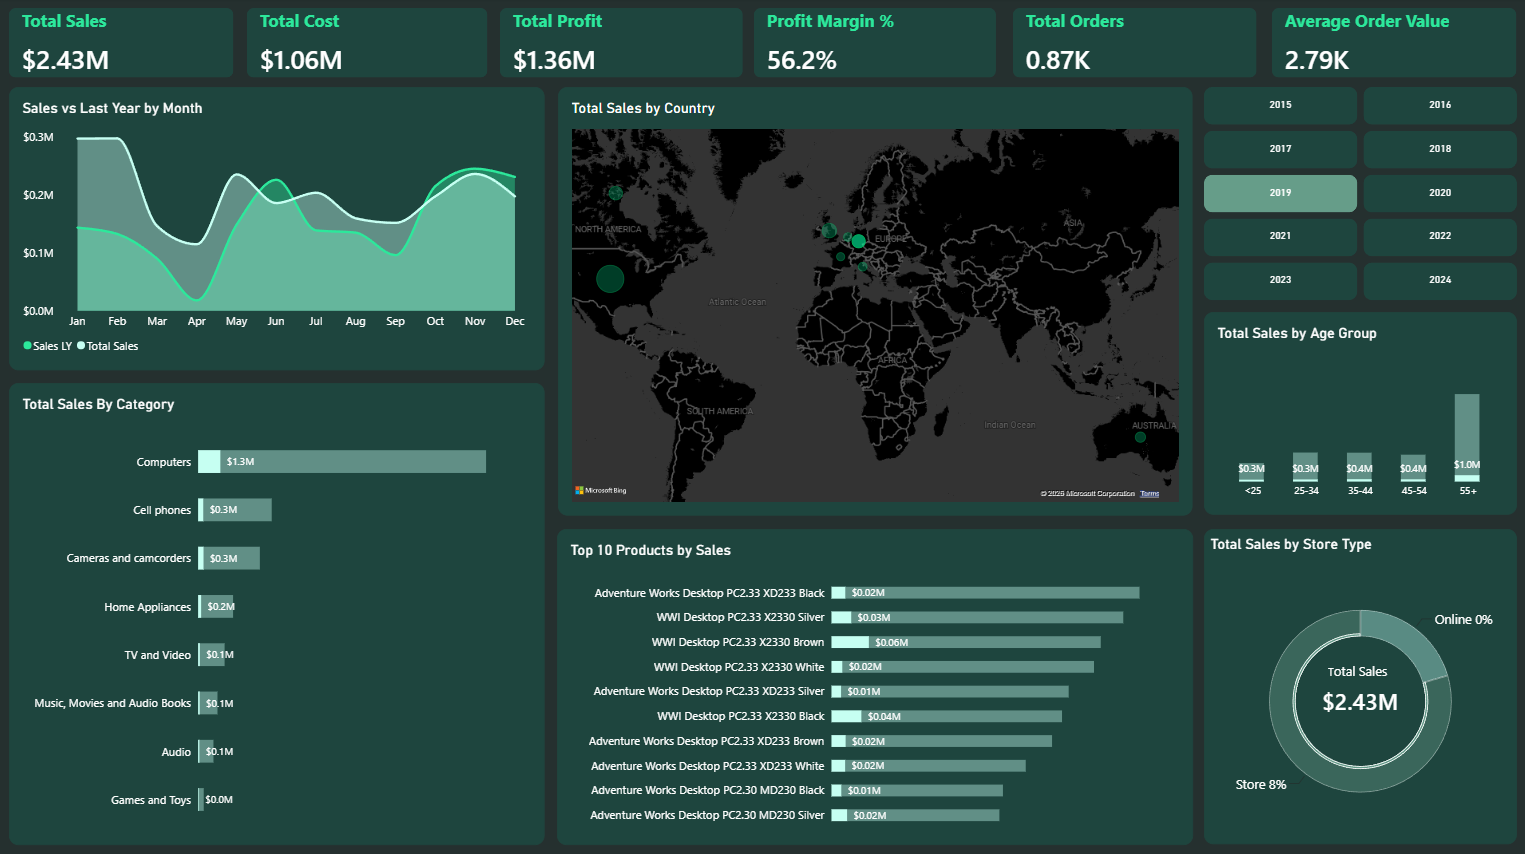

This screenshot's page, from the dashboard's own definition file:
{"tool":"powerbi","page":{"name":"Page 1","canvas":[1920,1080],"ordinal":0},"visuals":[{"type":"cardVisual","fields":{"Data":["Measures (2).Total Sales"]},"box":[14.6,11.9,281.8,87.3],"z":0},{"type":"cardVisual","fields":{"Data":["Measures (2).Total Profit"]},"box":[629.9,11.9,304.3,87.3],"z":1000},{"type":"cardVisual","fields":{"Data":["Measures (2).Total Cost"]},"box":[313.6,11.9,301.7,87.3],"z":2000},{"type":"cardVisual","fields":{"Data":["Measures (2).Profit Margin %"]},"box":[948.8,11.9,303,87.3],"z":3000},{"type":"cardVisual","fields":{"Data":["Measures (2).Total Orders"]},"box":[1272.9,11.9,305.7,87.3],"z":4000},{"type":"areaChart","title":"Sales vs Last Year by Month","fields":{"Category":["Date.MonthShort"],"Y":["Measures (2).Sales LY","Measures (2).Total Sales"]},"box":[15.1,111.9,670.8,355.4],"z":5000},{"type":"advancedSlicerVisual","fields":{"Values":["Date.Year"]},"box":[1512.3,111.5,392,268.3],"z":6000},{"type":"clusteredBarChart","title":"Total Sales By Category","fields":{"Category":["Product.Category"],"Y":["Measures (2).Total Sales"]},"box":[15.1,482.3,671.2,579],"z":7000},{"type":"map","title":"Total Sales by Country","fields":{"Category":["Store.Country","Customer.City"],"Size":["Measures (2).Total Sales"]},"box":[703,111.9,795.2,536.7],"z":8000},{"type":"clusteredBarChart","title":"Top 10 Products by Sales","fields":{"Category":["Product.ProductName"],"Y":["Measures (2).Total Sales"]},"box":[701.5,665.2,796.7,396.1],"z":9000},{"type":"donutChart","title":"Total Sales by Store Type","fields":{"Category":["Store.Store Type"],"Y":["Measures (2).Total Sales"]},"box":[1512.3,665.6,392,395.5],"z":10000},{"type":"cardVisual","fields":{"Data":["Measures (2).Average Order Value"]},"box":[1597.1,11.9,307,87.3],"z":11000},{"type":"clusteredColumnChart","title":"Total Sales by Age Group","fields":{"Category":["Customer.Age Group"],"Y":["Measures (2).Total Sales"]},"box":[1512.3,393.8,392,254.4],"z":12000},{"type":"textbox","box":[1668,832,113.4,37.8],"z":13000}]}

Visuals, with their boxes in screenshot pixels (x1, y1, x2, y2), scaled from the page's 1920x1080 canvas onto the 1525x854 screenshot:
cardVisual - Measures (2).Total Sales: 12,9,235,78
cardVisual - Measures (2).Total Profit: 500,9,742,78
cardVisual - Measures (2).Total Cost: 249,9,489,78
cardVisual - Measures (2).Profit Margin %: 754,9,994,78
cardVisual - Measures (2).Total Orders: 1011,9,1254,78
"Sales vs Last Year by Month" areaChart: 12,88,545,370
advancedSlicerVisual - Date.Year: 1201,88,1513,300
"Total Sales By Category" clusteredBarChart: 12,381,545,839
"Total Sales by Country" map: 558,88,1190,513
"Top 10 Products by Sales" clusteredBarChart: 557,526,1190,839
"Total Sales by Store Type" donutChart: 1201,526,1513,839
cardVisual - Measures (2).Average Order Value: 1269,9,1512,78
"Total Sales by Age Group" clusteredColumnChart: 1201,311,1513,513
textbox: 1325,658,1415,688
